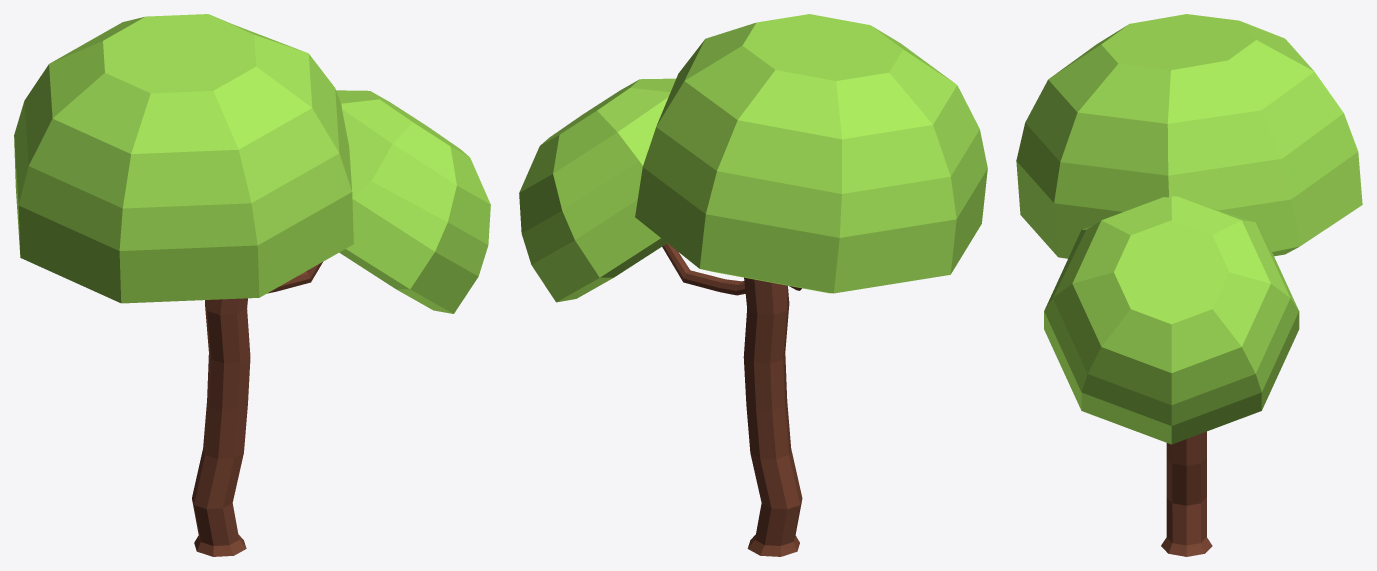
File: Tree002_V2.fbx
3 views of the same model, side by side, from view 1: azimuth 30°, elevation 25°; view 2: azimuth 150°, elevation 25°; view 3: azimuth 270°, elevation 25° (orthographic). The views are drawn at different scales.
Visible parts, largest first — view 1: Tree002.001; view 2: Tree002.001; view 3: Tree002.001.
Part boxes in pixels (x1,y1,x2,y2): Tree002.001: (14, 14, 490, 556); Tree002.001: (519, 14, 987, 556); Tree002.001: (1016, 14, 1362, 556).
Bounding box in the file's own units: 4.29 × 4.8 × 3.08.
